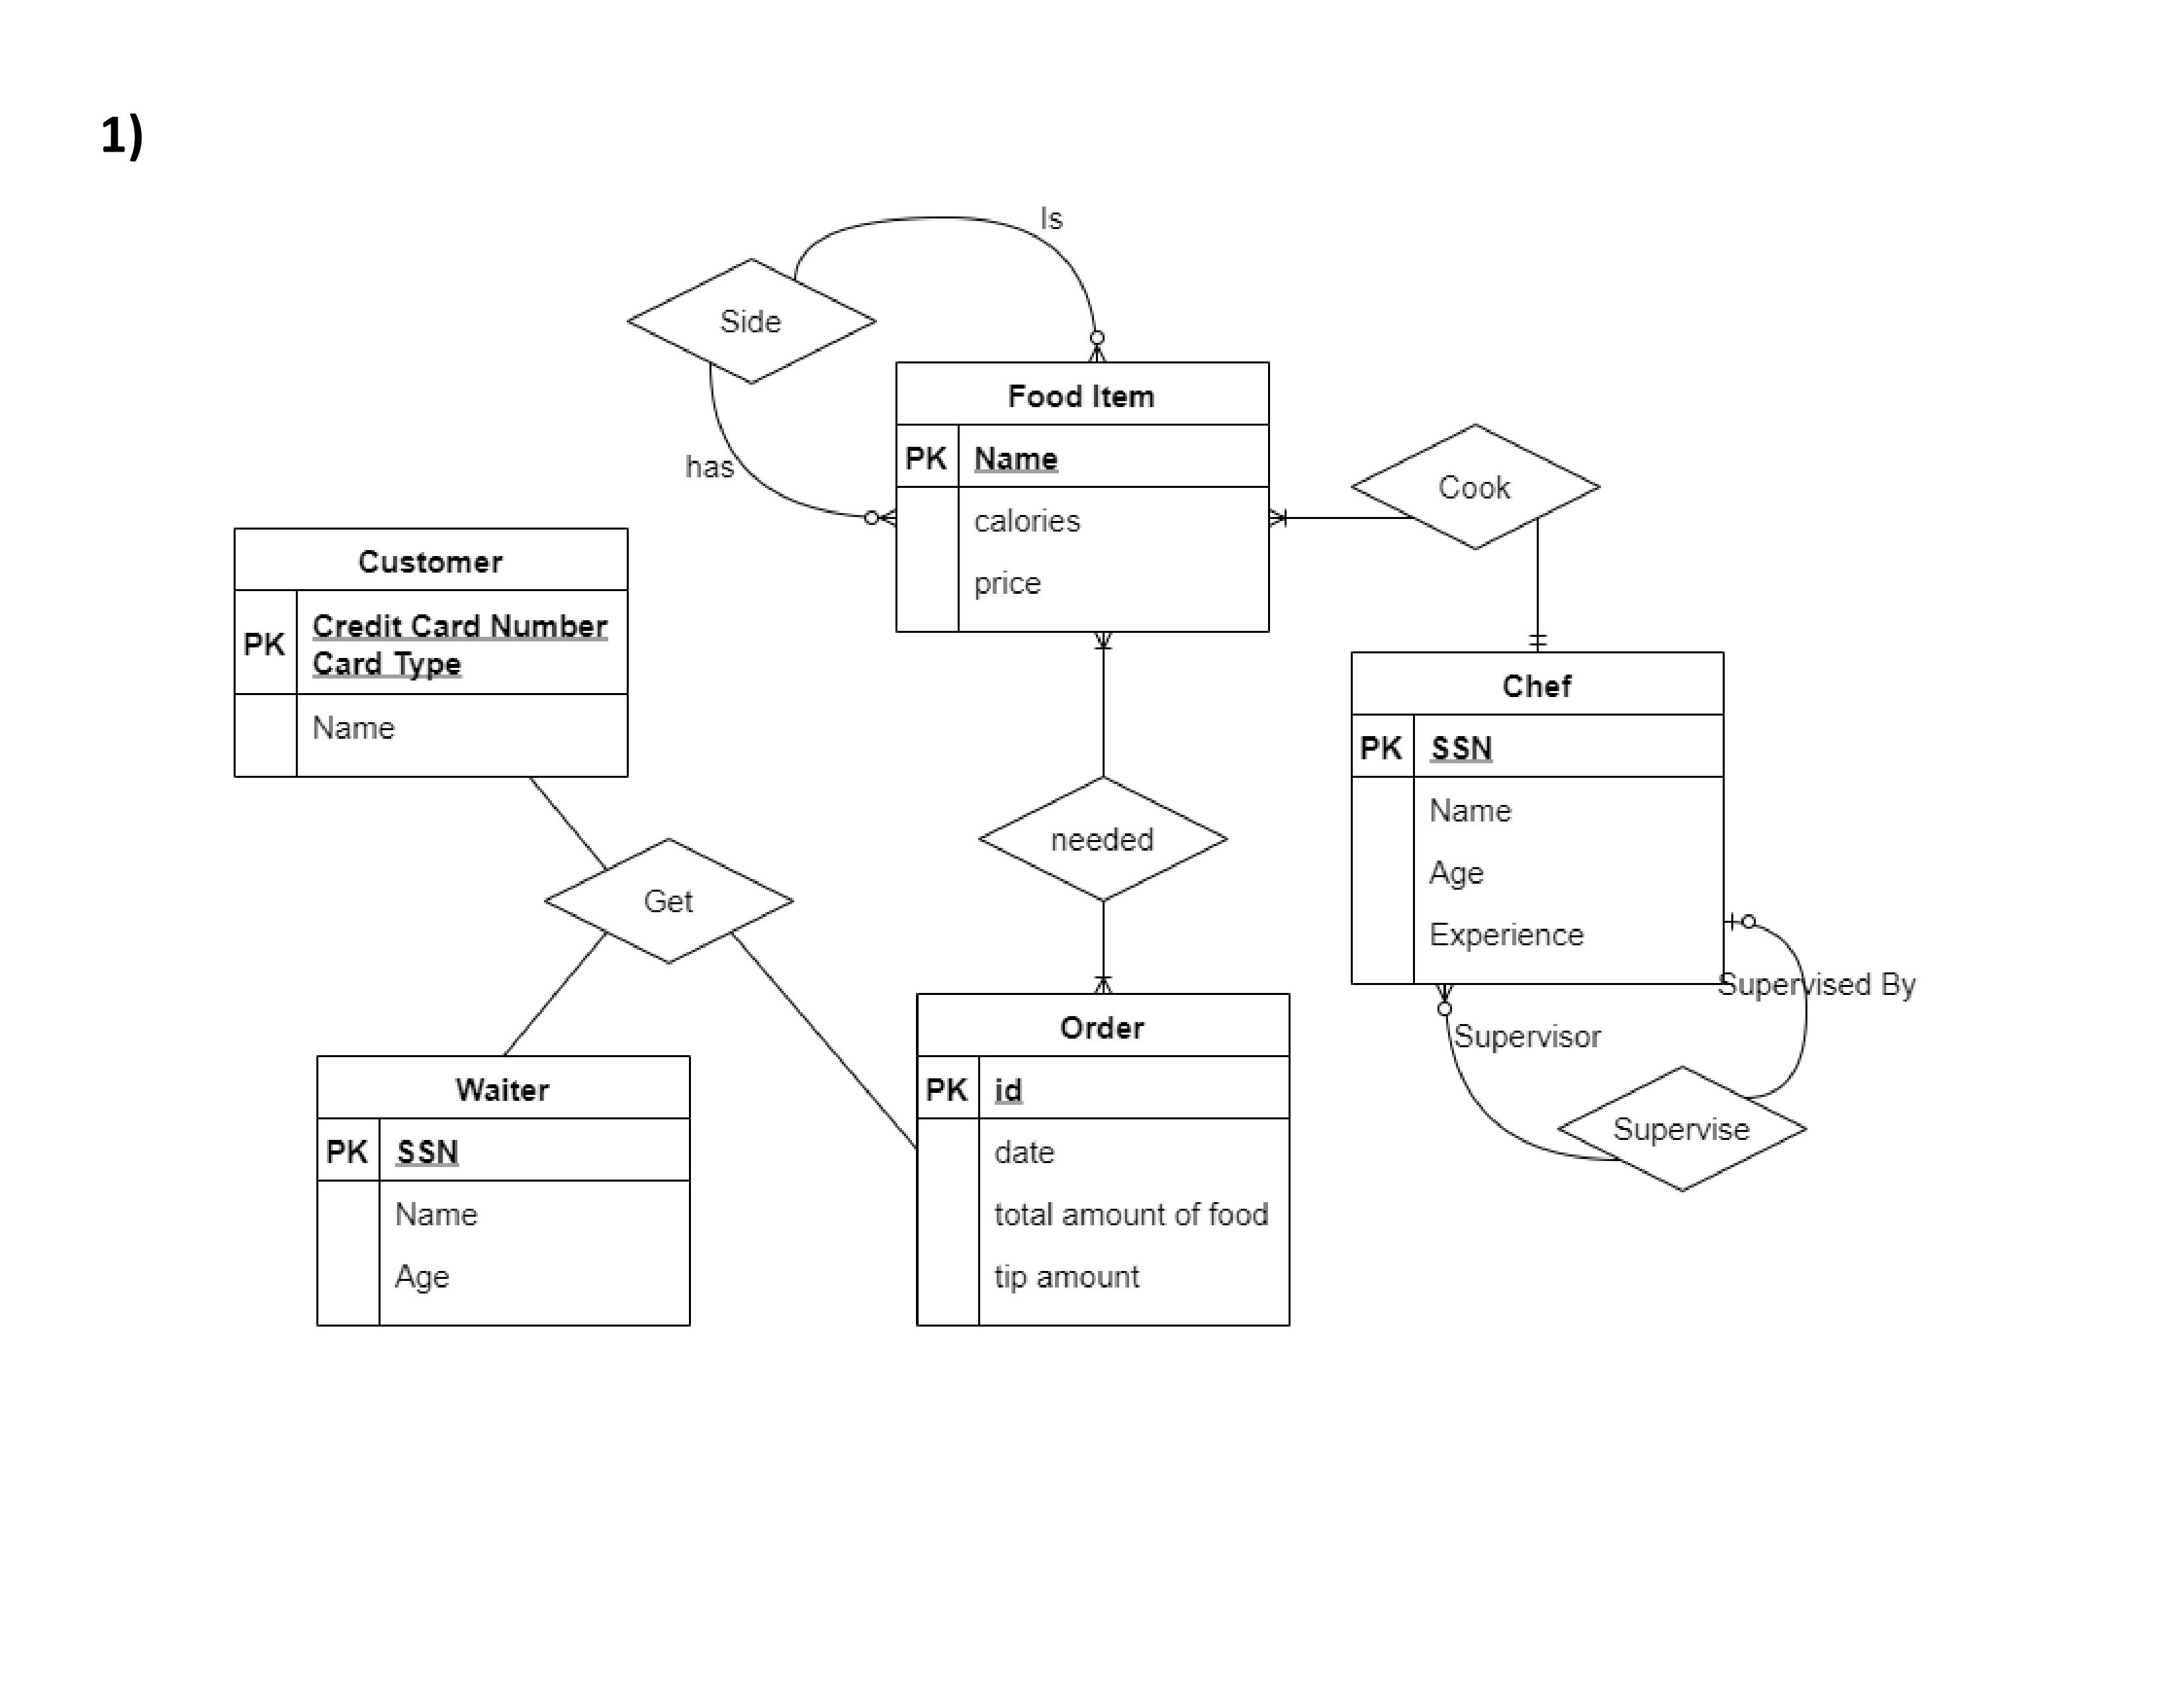Entity: (915, 991, 1291, 1328), (1351, 651, 1727, 986), (316, 1055, 693, 1328), (893, 360, 1271, 633), (232, 527, 629, 777)
Relationship: (977, 777, 1230, 903), (544, 837, 794, 965), (1351, 424, 1601, 551), (1558, 1064, 1806, 1192), (626, 259, 879, 383)
